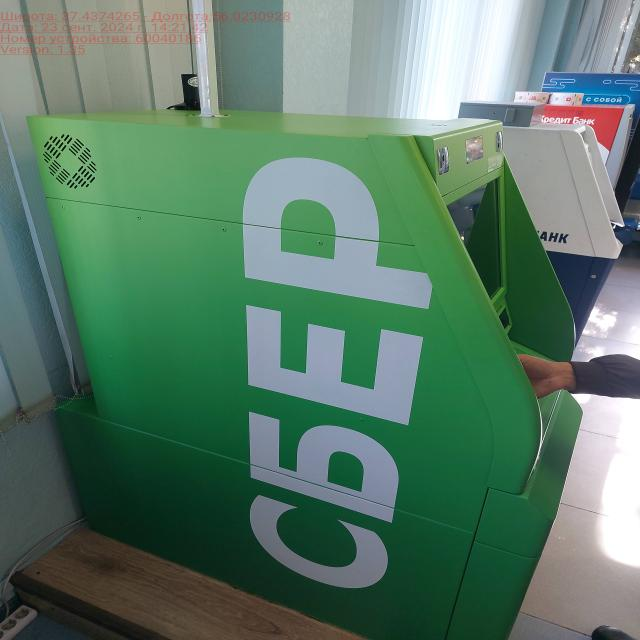bank: (30, 115, 586, 640)
